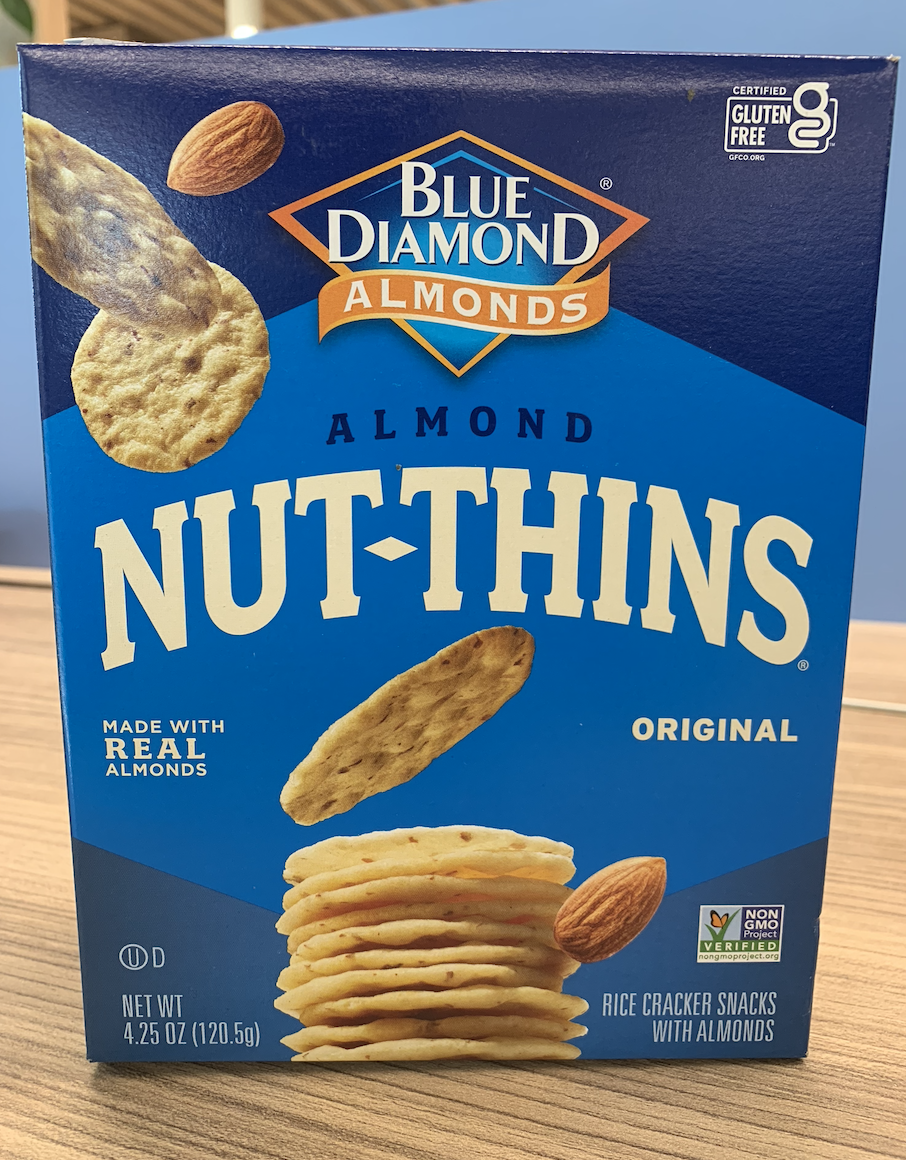crackers_100g-199g: (83, 66, 815, 1061)
